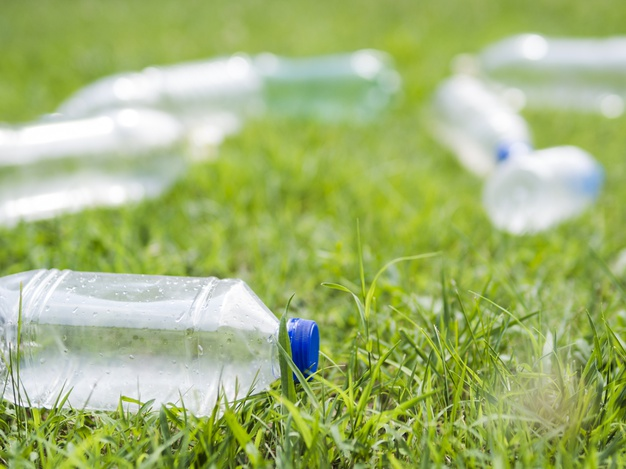plastic_bottle: (1, 242, 369, 469), (365, 34, 617, 318), (28, 21, 404, 180), (1, 92, 298, 250), (450, 111, 612, 289), (488, 23, 626, 145), (427, 17, 563, 93)
